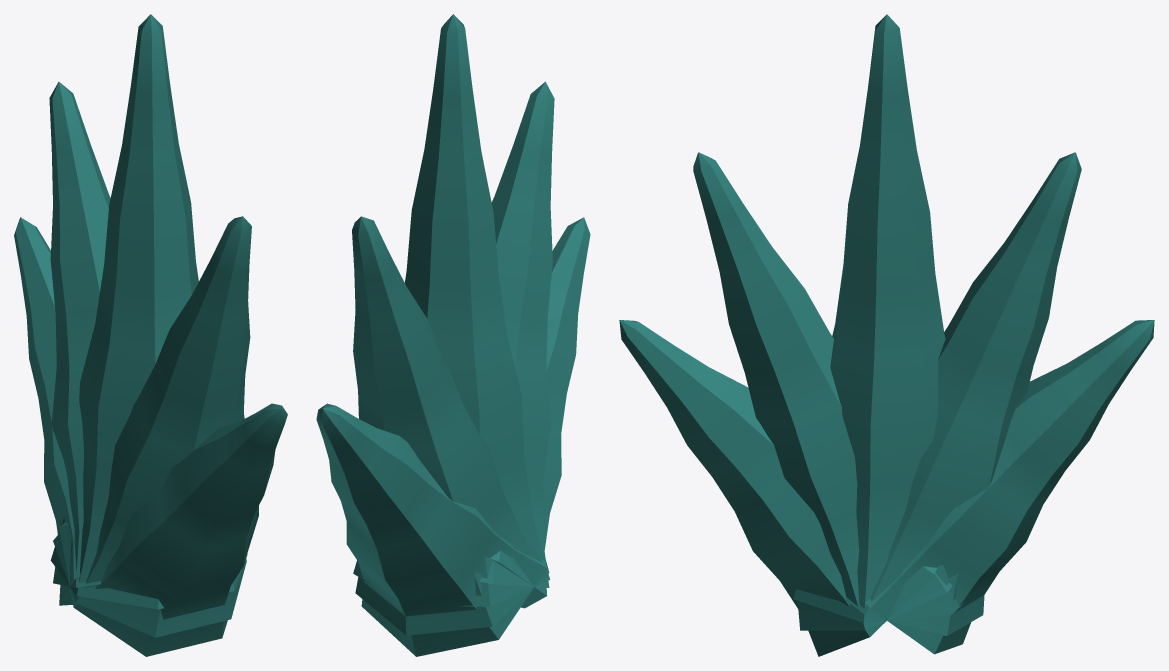
File: crest_tuft.glb
3 renders of one model, left to right at view 1: azimuth 30°, elevation 25°; view 2: azimuth 150°, elevation 25°; view 3: azimuth 270°, elevation 25°, orthographic. The views are drawn at different scales.
Parts seen in each view (by area): view 1: crest_tuft; view 2: crest_tuft; view 3: crest_tuft.
Part boxes in pixels (left/top/right/bottom): crest_tuft: left=14, top=14, right=287, bottom=656; crest_tuft: left=316, top=14, right=590, bottom=656; crest_tuft: left=619, top=14, right=1154, bottom=656.
Bounding box in the file's own units: 0.1394 × 0.4793 × 0.3688.
